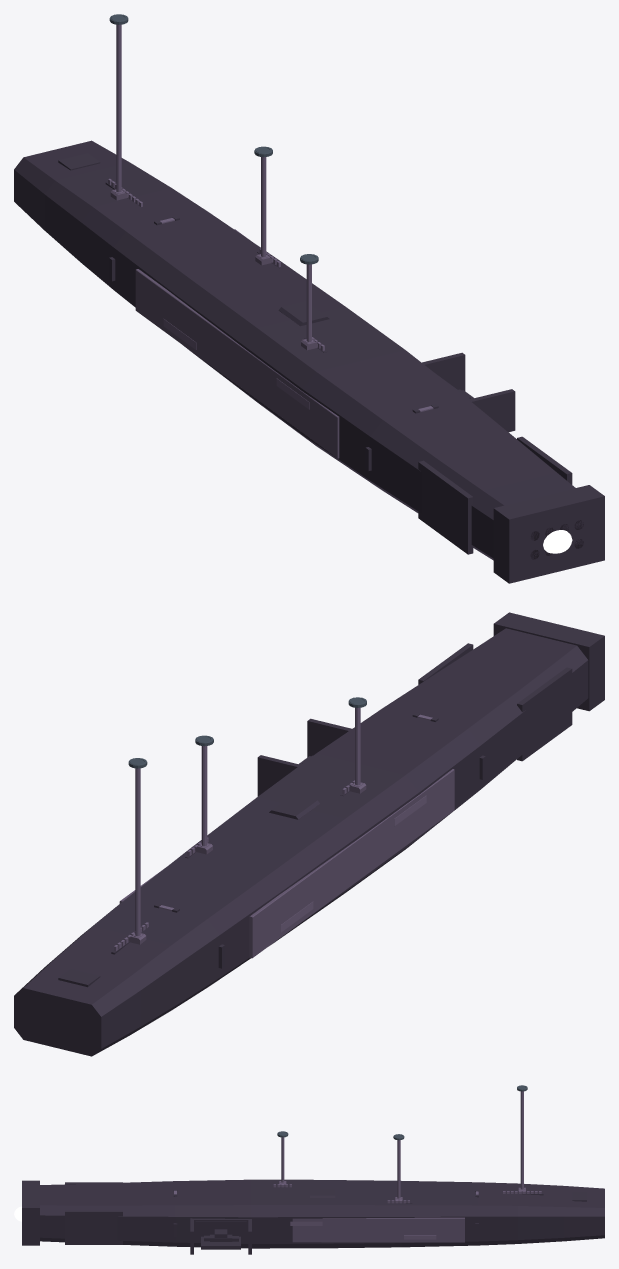
3 views of the same model, one above another, from view 1: azimuth 30°, elevation 25°; view 2: azimuth 150°, elevation 25°; view 3: azimuth 270°, elevation 25° (orthographic). The views are drawn at different scales.
Parts seen in each view (by area): view 1: RIMWARD_HULL; view 2: RIMWARD_HULL; view 3: RIMWARD_HULL.
Part boxes in pixels (<box>): RIMWARD_HULL: <box>14,14,604,583</box>; RIMWARD_HULL: <box>14,612,604,1056</box>; RIMWARD_HULL: <box>22,1085,604,1254</box>.
Bounding box in the file's own units: 5.98 × 8.86 × 32.58.
